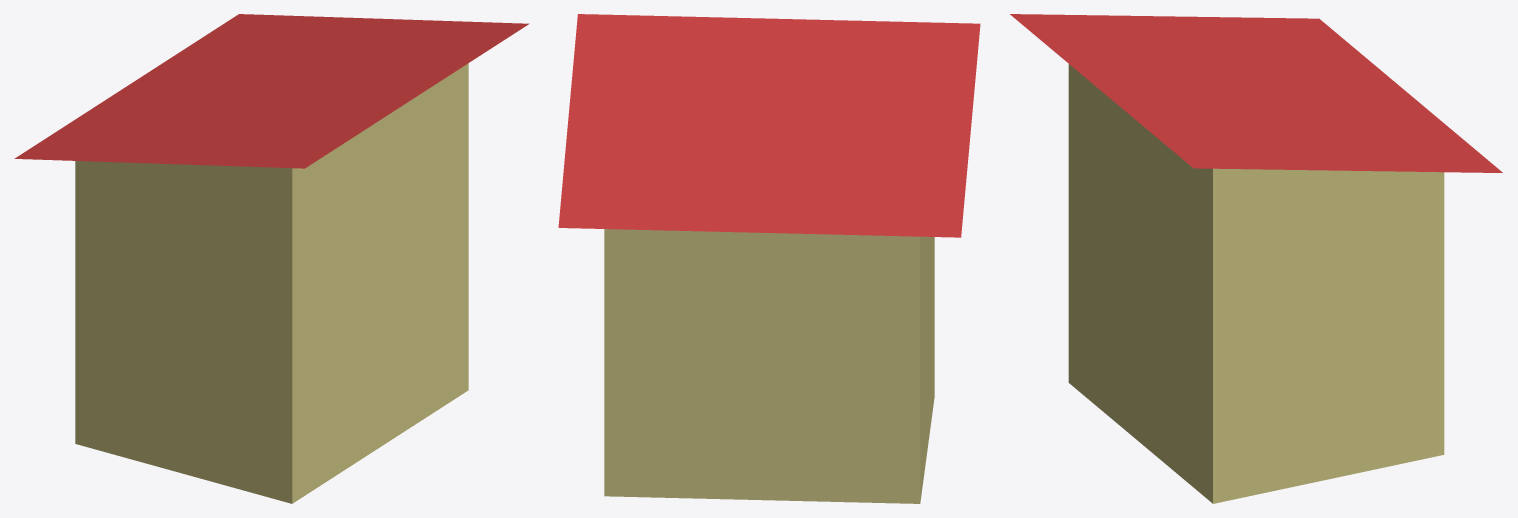
3 renders of one model, left to right at view 1: azimuth 30°, elevation 25°; view 2: azimuth 150°, elevation 25°; view 3: azimuth 270°, elevation 25°, orthographic.
Size of the model in its own units: 8.88 by 8.41 by 6.77.
